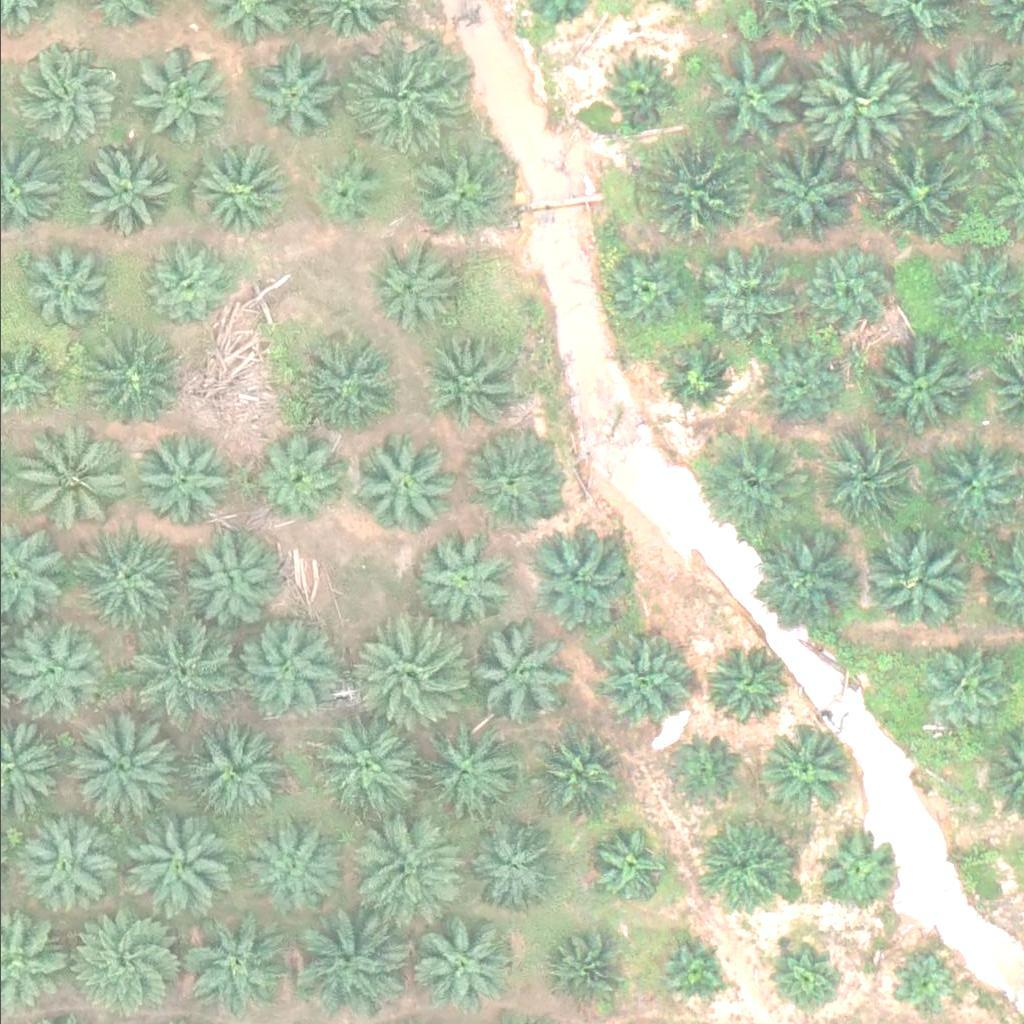Kelapa_Sawit: (351, 808, 465, 921), (343, 40, 457, 153), (803, 54, 916, 167), (868, 328, 981, 441), (688, 427, 801, 540), (867, 516, 980, 629), (74, 900, 187, 1013), (117, 807, 230, 920), (73, 518, 186, 631), (908, 53, 1022, 165), (295, 905, 409, 1017), (694, 49, 807, 161), (863, 142, 976, 254), (642, 140, 755, 252), (807, 421, 920, 533), (744, 520, 857, 632), (68, 713, 181, 825), (123, 617, 236, 729), (233, 611, 346, 723), (353, 618, 466, 730), (10, 427, 123, 539), (752, 142, 853, 242), (408, 145, 509, 245), (685, 240, 786, 340), (686, 812, 787, 912), (406, 913, 507, 1013), (469, 625, 570, 725), (530, 523, 631, 623), (465, 431, 566, 531), (416, 331, 517, 431), (16, 815, 117, 915), (245, 814, 346, 914), (315, 713, 416, 813), (182, 717, 283, 817), (178, 528, 279, 628), (130, 433, 231, 533), (355, 436, 456, 536), (295, 332, 396, 432), (14, 45, 115, 145), (584, 628, 684, 728), (415, 527, 515, 627), (184, 911, 284, 1011), (464, 816, 564, 916), (409, 723, 509, 823), (77, 327, 177, 427), (188, 141, 288, 241), (75, 141, 175, 241), (130, 49, 230, 149), (653, 336, 741, 424), (922, 645, 1010, 733), (366, 246, 454, 334), (927, 251, 1015, 338), (802, 247, 890, 334), (598, 249, 686, 336), (757, 342, 845, 429), (811, 829, 899, 916), (531, 728, 619, 815), (530, 924, 618, 1011), (762, 723, 850, 810), (699, 641, 787, 728), (256, 436, 344, 523), (22, 243, 110, 330), (145, 240, 233, 327), (245, 50, 333, 137), (602, 51, 678, 126), (308, 154, 384, 229), (589, 826, 665, 901), (649, 932, 725, 1007), (766, 938, 842, 1013), (659, 736, 734, 811)
